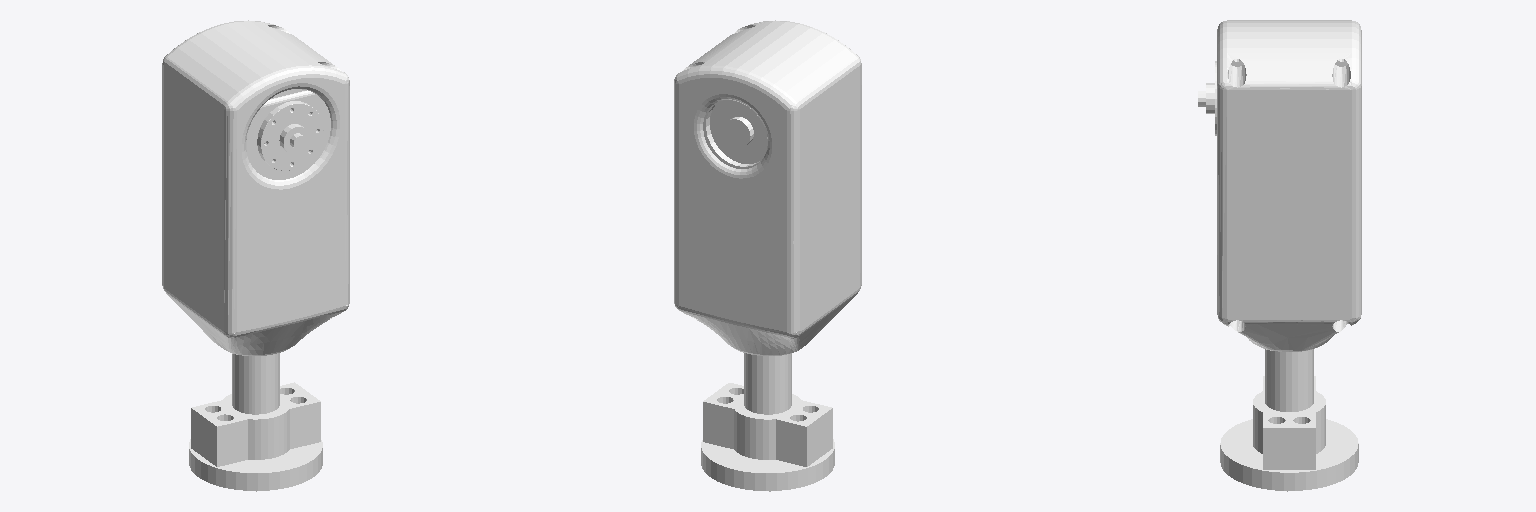
URDF robot description (Link3^Full Arm Assembly_w_wrist):
<robot
  name="Link3^Full Arm Assembly_w_wrist">
  <link
    name="L3">
    <inertial>
      <origin
        xyz="-9.48525443954518E-05 -0.000463075774122468 0.0780155361342653"
        rpy="0 0 0" />
      <mass
        value="0.0971976409161237" />
      <inertia
        ixx="9.79772834604298E-05"
        ixy="3.9991085262184E-09"
        ixz="6.79112655284525E-08"
        iyy="0.000101208102404303"
        iyz="9.26940053899362E-07"
        izz="3.28836084583875E-06" />
    </inertial>
    <visual>
      <origin
        xyz="0 0 0"
        rpy="0 0 0" />
      <geometry>
        <mesh
          filename="package://Link3^Full Arm Assembly_w_wrist/meshes/L3.STL" />
      </geometry>
      <material
        name="">
        <color
          rgba="1 1 1 1" />
      </material>
    </visual>
    <collision>
      <origin
        xyz="0 0 0"
        rpy="0 0 0" />
      <geometry>
        <mesh
          filename="package://Link3^Full Arm Assembly_w_wrist/meshes/L3.STL" />
      </geometry>
    </collision>
  </link>
</robot>

--- What the picture shows (computed from the rendered views, not written in the file) ---
Views: 3 orthographic renders of the robot side by side, from view 1: azimuth 30°, elevation 25°; view 2: azimuth 150°, elevation 25°; view 3: azimuth 270°, elevation 25°.
Model Link3^Full Arm Assembly_w_wrist with 1 links and 0 joints (none), rooted at L3, posed every joint at zero.
Links seen in each view (by area): view 1: L3; view 2: L3; view 3: L3.
Link boxes in pixels (x1=…): L3: x1=162, y1=20, x2=349, y2=491; L3: x1=674, y1=20, x2=861, y2=491; L3: x1=1198, y1=20, x2=1361, y2=491.
Bounding box of the posed robot: 0.0385 × 0.0425 × 0.1284 m (x, y, z).
Meshes: 1 distinct files referenced, 1 mesh visuals loaded (1 binary STL).